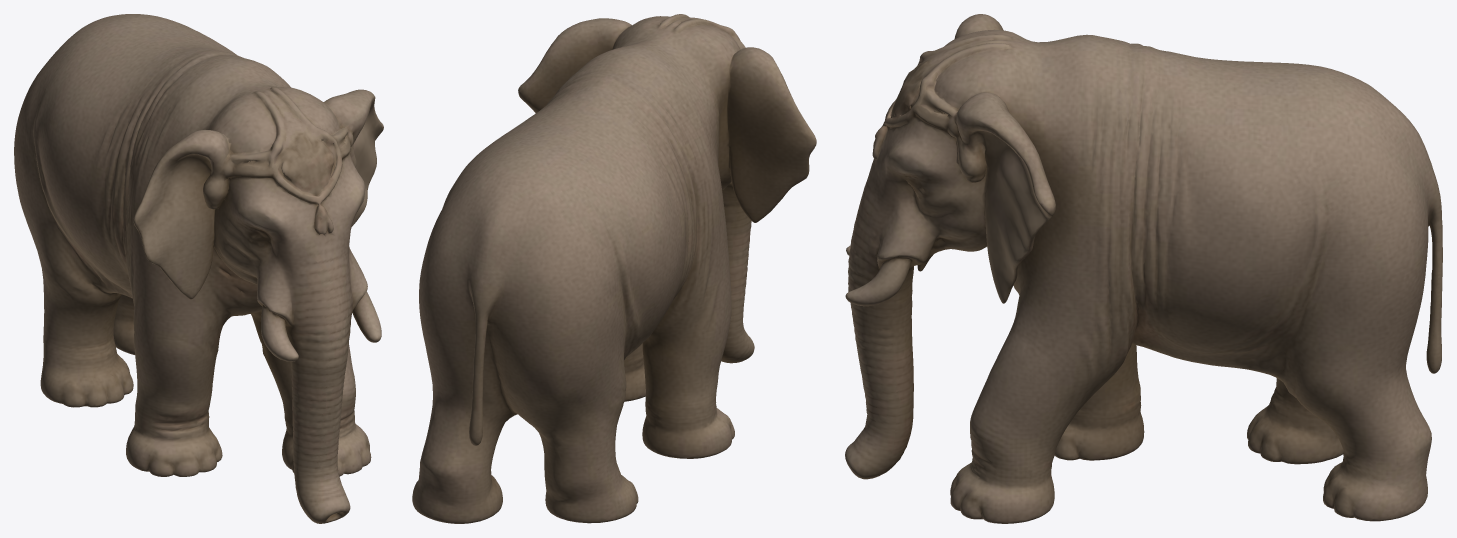
Rendered from generation_elephant_2.glb.
3 renders of one model, left to right at view 1: azimuth 30°, elevation 25°; view 2: azimuth 150°, elevation 25°; view 3: azimuth 270°, elevation 25°, orthographic. The views are drawn at different scales.
Parts seen in each view (by area): view 1: geometry_0; view 2: geometry_0; view 3: geometry_0.
Part boxes in pixels (x1,y1,x2,y2): geometry_0: [14, 14, 383, 523]; geometry_0: [412, 14, 816, 523]; geometry_0: [845, 14, 1442, 523].
Size of the model in its own units: 0.6034 by 0.8076 by 1.
1 material, 1 textured.
